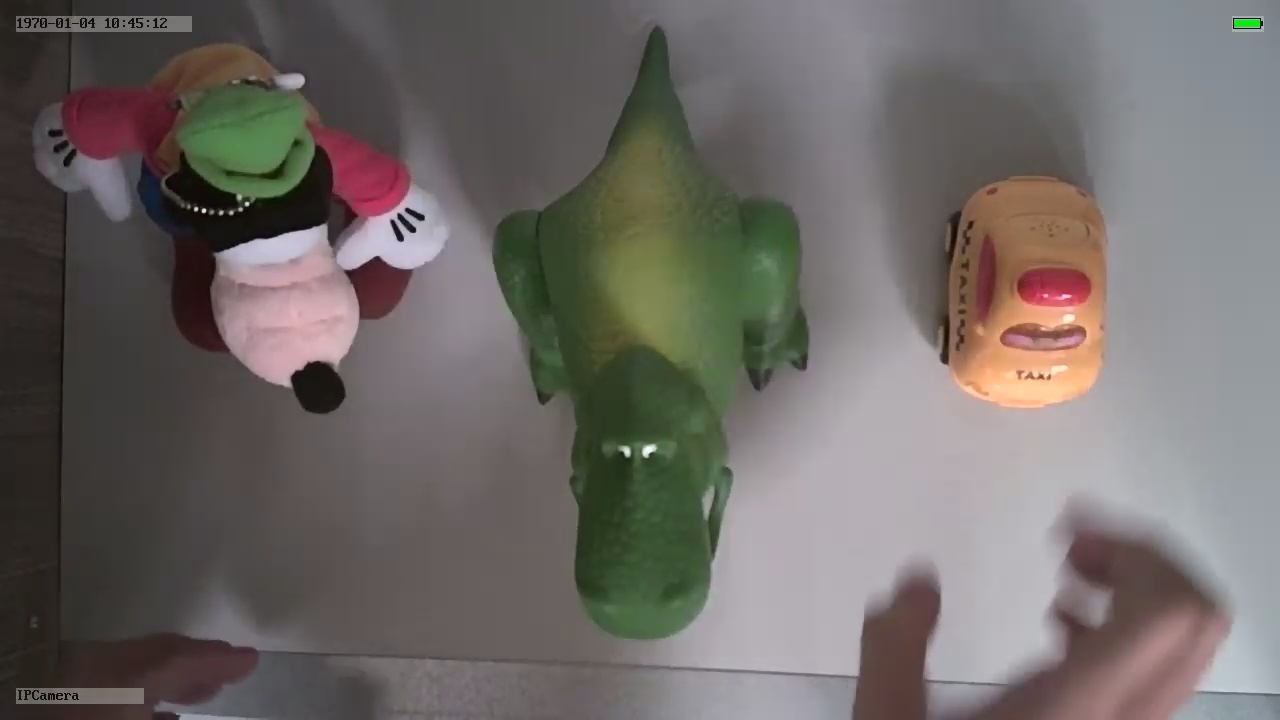car: (933, 167, 1113, 412)
goofy: (30, 41, 449, 411)
rex: (490, 105, 815, 641)
